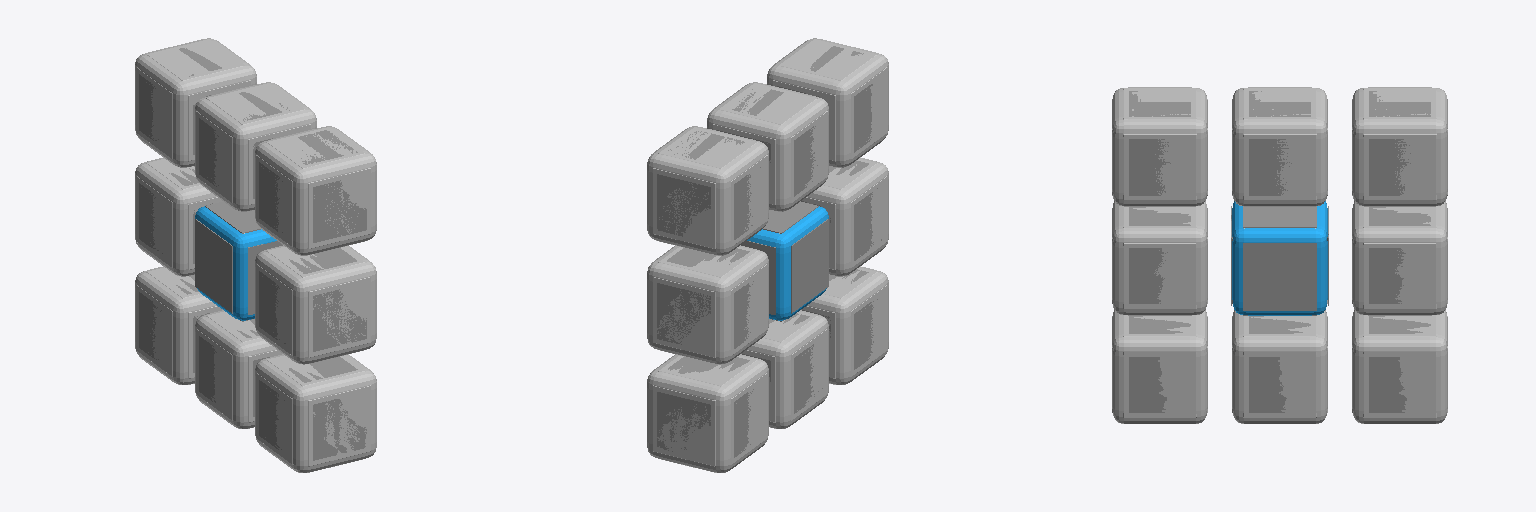
The picture shows the model from 3 angles: view 1: azimuth 30°, elevation 25°; view 2: azimuth 150°, elevation 25°; view 3: azimuth 270°, elevation 25°; orthographic projection.
Parts seen in each view (by area): view 1: Cube.019_Cube.020, Cube.017_Cube.018, Cube.018_Cube.019, Cube.009_Cube.010, Cube.013_Cube.014, Cube.010_Cube.011, Cube.008_Cube.009, Cube.029_Cube.030, Cube.025_Cube.026, Cube.016_Cube.017, Cube.024_Cube.025, Cube.004_Cube.005 (+14 smaller); view 2: Cube.013_Cube.014, Cube.014_Cube.015, Cube.012_Cube.013, Cube.004_Cube.005, Cube.005_Cube.006, Cube.003_Cube.004, Cube.017_Cube.018, Cube.029_Cube.030, Cube.016_Cube.017, Cube.009_Cube.010, Cube.006_Cube.007, Cube.027_Cube.028 (+14 smaller); view 3: Cube.029_Cube.030, Cube.009_Cube.010, Cube.006_Cube.007, Cube.004_Cube.005, Cube.016_Cube.017, Cube.013_Cube.014, Cube.017_Cube.018, Cube.008_Cube.009, Cube.003_Cube.004, Cube.010_Cube.011, Cube.005_Cube.006, Cube.007_Cube.008 (+14 smaller).
Part boxes in pixels (x1,y1,x2,y2): Cube.019_Cube.020: (256, 355, 370, 466); Cube.017_Cube.018: (256, 127, 370, 248); Cube.018_Cube.019: (256, 247, 370, 357); Cube.009_Cube.010: (255, 126, 376, 255); Cube.013_Cube.014: (136, 39, 250, 161); Cube.010_Cube.011: (255, 354, 376, 472); Cube.008_Cube.009: (255, 245, 376, 364); Cube.029_Cube.030: (195, 201, 282, 321); Cube.025_Cube.026: (259, 130, 366, 242); Cube.016_Cube.017: (196, 83, 310, 204); Cube.024_Cube.025: (259, 248, 366, 351); Cube.004_Cube.005: (135, 38, 256, 167); Cube.013_Cube.014: (653, 127, 767, 248); Cube.014_Cube.015: (653, 355, 767, 466); Cube.012_Cube.013: (653, 247, 767, 357); Cube.004_Cube.005: (647, 126, 768, 255); Cube.005_Cube.006: (647, 354, 768, 472); Cube.003_Cube.004: (647, 245, 768, 364); Cube.017_Cube.018: (773, 39, 887, 161); Cube.029_Cube.030: (741, 201, 828, 321); Cube.016_Cube.017: (713, 83, 827, 204); Cube.009_Cube.010: (767, 38, 888, 167); Cube.006_Cube.007: (707, 82, 828, 211); Cube.027_Cube.028: (657, 131, 760, 239); Cube.029_Cube.030: (1231, 206, 1328, 315); Cube.009_Cube.010: (1112, 87, 1207, 206); Cube.006_Cube.007: (1232, 87, 1327, 206); Cube.004_Cube.005: (1352, 87, 1447, 206); Cube.016_Cube.017: (1232, 88, 1327, 200); Cube.013_Cube.014: (1352, 88, 1447, 200); Cube.017_Cube.018: (1112, 88, 1207, 200); Cube.008_Cube.009: (1112, 201, 1207, 315); Cube.003_Cube.004: (1352, 201, 1447, 315); Cube.010_Cube.011: (1112, 310, 1207, 423); Cube.005_Cube.006: (1352, 310, 1447, 423); Cube.007_Cube.008: (1232, 310, 1327, 423).
Size of the model in its own units: 2.04 by 7 by 7.
3 materials, 1 textured.